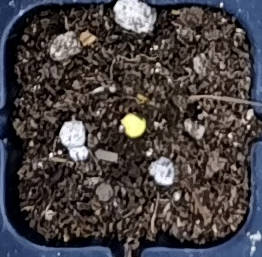pepper seed: (46, 44, 194, 183)
